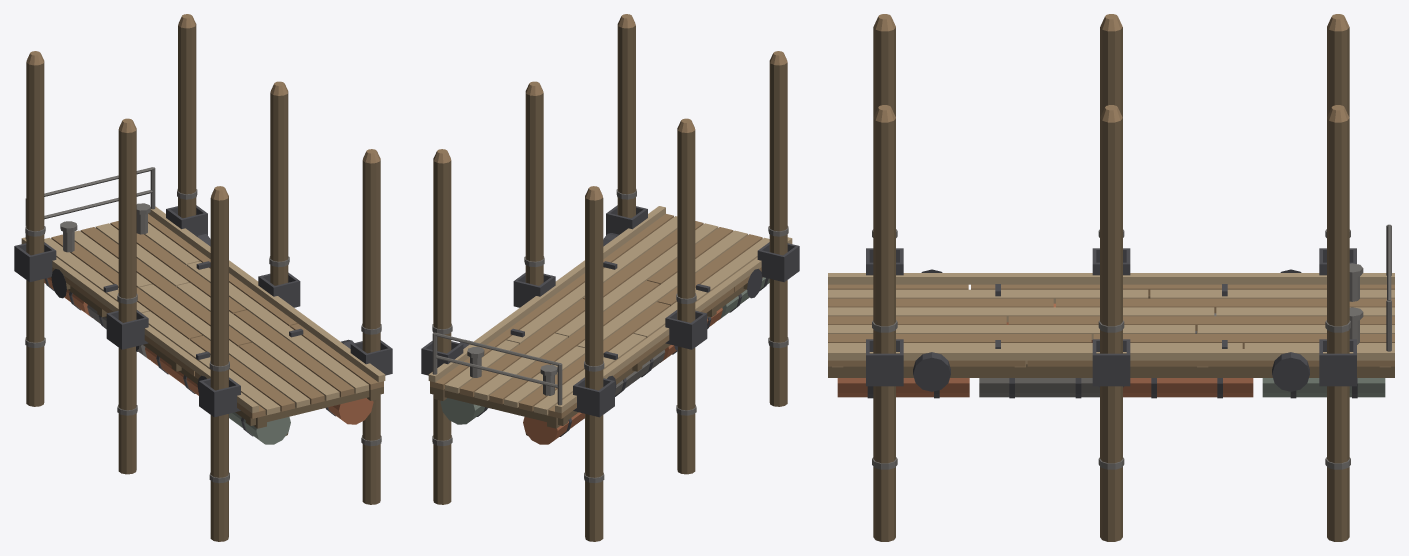
File: env_pier.glb
3 renders of one model, left to right at view 1: azimuth 30°, elevation 25°; view 2: azimuth 150°, elevation 25°; view 3: azimuth 270°, elevation 25°, orthographic. The views are drawn at different scales.
Visible parts, largest first — view 1: pier_deck, pier_piles; view 2: pier_deck, pier_piles; view 3: pier_deck, pier_piles.
Boxes of the visible parts, x1,y1,x2,y2 form: pier_deck: (14, 167, 392, 444); pier_piles: (25, 14, 381, 541); pier_deck: (421, 205, 799, 444); pier_piles: (432, 14, 788, 541); pier_deck: (828, 224, 1394, 398); pier_piles: (872, 14, 1350, 541).
Size of the model in its own units: 2.68 by 5.02 by 6.
